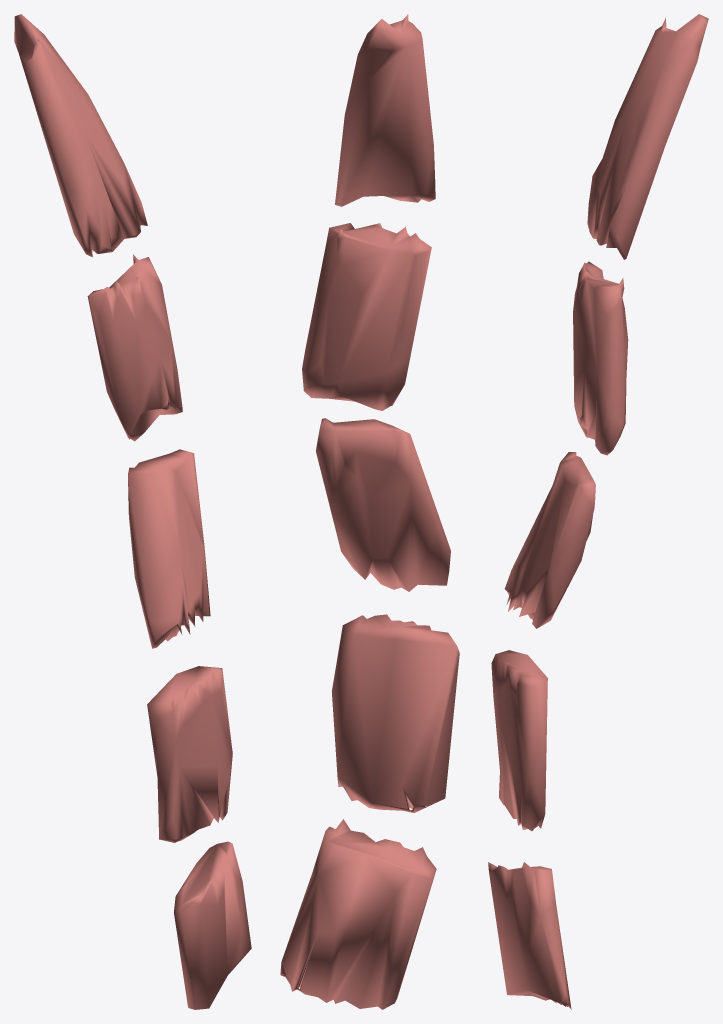
The picture shows the model from 3 angles, left to right: view 1: azimuth 30°, elevation 25°; view 2: azimuth 150°, elevation 25°; view 3: azimuth 270°, elevation 25°; orthographic projection. The views are drawn at different scales.
Parts seen in each view (by area): view 1: ZA_331d65c1c226323b; view 2: ZA_331d65c1c226323b; view 3: ZA_331d65c1c226323b.
Part boxes in pixels (<box>): ZA_331d65c1c226323b: <box>14,14,251,1009</box>; ZA_331d65c1c226323b: <box>280,14,459,1009</box>; ZA_331d65c1c226323b: <box>488,14,708,1009</box>.
Bounding box in the file's own units: 0.0285 × 0.1502 × 0.0319.
